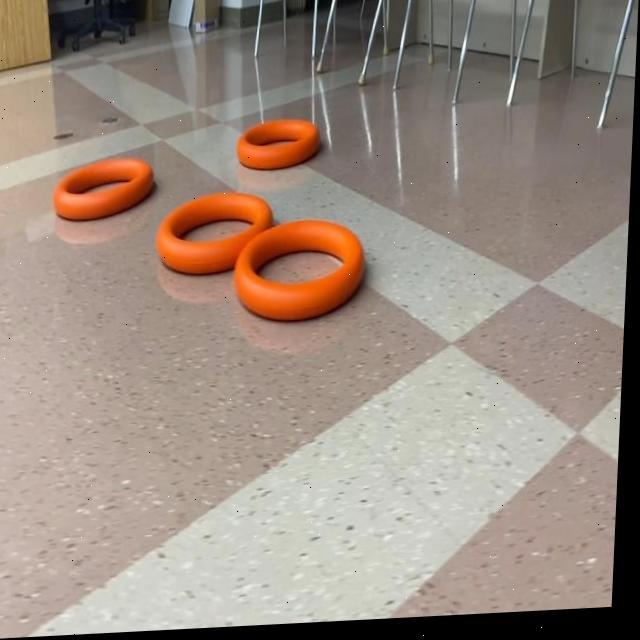note: (236, 218, 370, 325), (159, 191, 278, 278), (55, 154, 157, 223), (239, 117, 321, 175)
